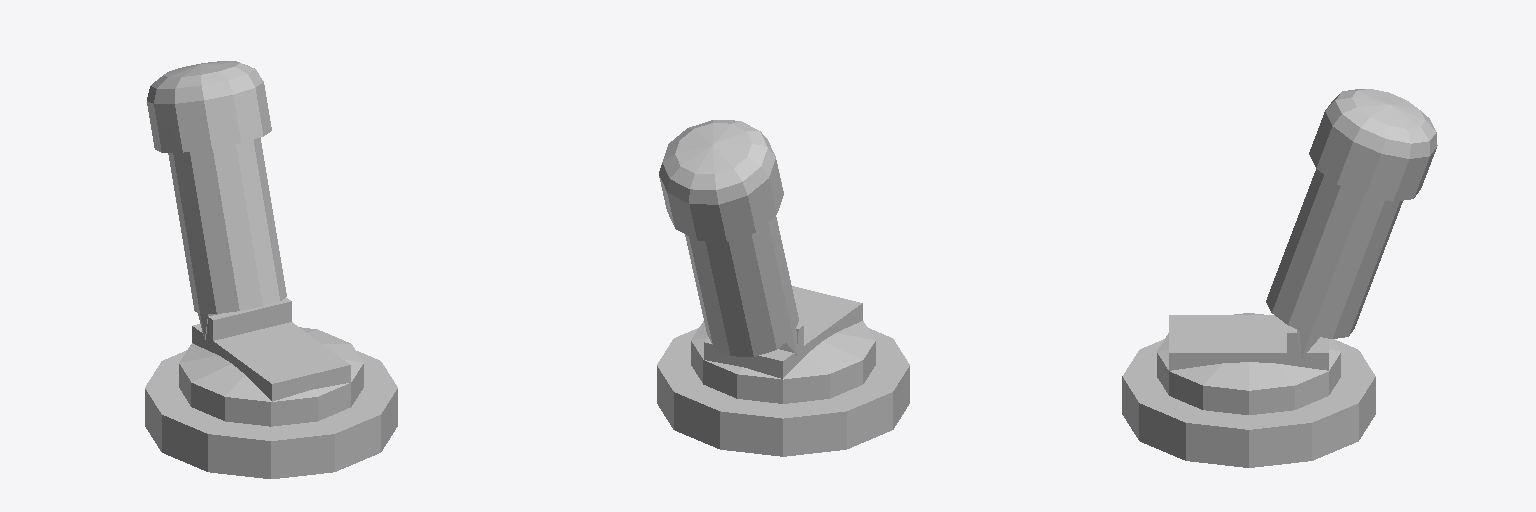
File: Sw_APU - Off.obj
3 renders of one model, left to right at view 1: azimuth 30°, elevation 25°; view 2: azimuth 150°, elevation 25°; view 3: azimuth 270°, elevation 25°, orthographic.
Visible parts, largest first — view 1: Switch, LockNut, SwitchBase, Slider, LockingTine; view 2: Switch, LockNut, SwitchBase, Slider; view 3: Switch, LockNut, SwitchBase, Slider.
Boxes of the visible parts, x1=… form: Switch: x1=147, y1=61, x2=286, y2=339; LockNut: x1=145, y1=350, x2=397, y2=478; SwitchBase: x1=179, y1=327, x2=363, y2=426; Slider: x1=192, y1=322, x2=350, y2=401; LockingTine: x1=206, y1=298, x2=291, y2=341; Switch: x1=659, y1=120, x2=798, y2=356; LockNut: x1=657, y1=328, x2=909, y2=456; SwitchBase: x1=691, y1=321, x2=875, y2=403; Slider: x1=704, y1=286, x2=862, y2=378; Switch: x1=1266, y1=89, x2=1437, y2=357; LockNut: x1=1122, y1=339, x2=1375, y2=467; SwitchBase: x1=1157, y1=313, x2=1340, y2=414; Slider: x1=1169, y1=315, x2=1328, y2=370.
Bounding box in the file's own units: 6 × 8.29 × 7.46.